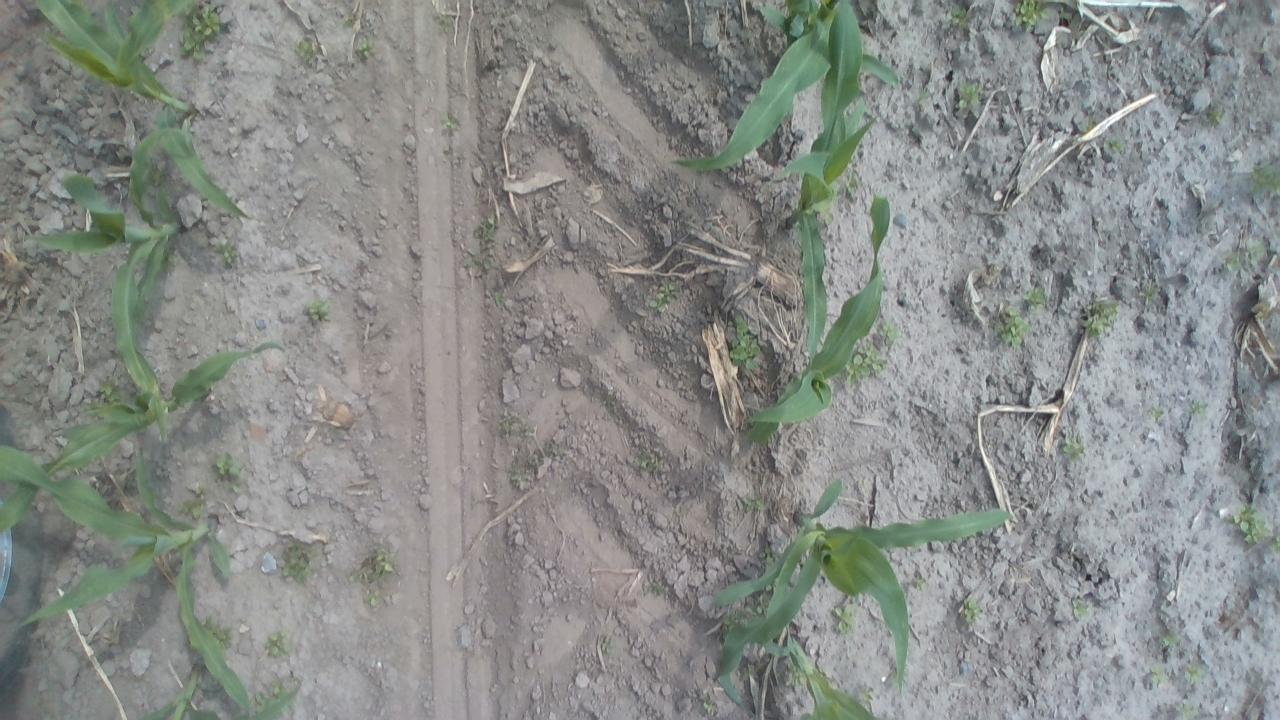Maize: (0, 435, 256, 713), (716, 478, 1016, 696), (0, 333, 294, 540), (23, 115, 178, 440), (30, 0, 254, 222), (740, 192, 898, 450), (671, 12, 900, 172), (773, 1, 870, 365), (730, 624, 877, 720), (120, 659, 290, 720), (753, 0, 828, 37)
Weeds: (352, 540, 397, 611), (175, 3, 226, 62), (1226, 501, 1280, 554), (458, 212, 502, 273), (840, 338, 890, 388), (1077, 291, 1124, 343), (729, 314, 762, 374), (995, 304, 1036, 352), (278, 542, 322, 586), (642, 278, 686, 316), (1223, 234, 1267, 270), (212, 452, 246, 494), (260, 627, 296, 666), (251, 674, 292, 708), (718, 604, 767, 632), (1010, 0, 1052, 31), (1058, 424, 1090, 464), (1248, 158, 1280, 198), (200, 616, 237, 650), (496, 413, 533, 443), (826, 604, 859, 636), (169, 495, 208, 522), (1156, 626, 1192, 655), (289, 34, 324, 63), (952, 80, 983, 112), (301, 296, 336, 324), (780, 657, 811, 687), (877, 316, 908, 346), (531, 442, 568, 466), (943, 6, 976, 30), (213, 239, 240, 268), (96, 379, 125, 406), (958, 596, 981, 630), (636, 576, 669, 599), (509, 460, 533, 490), (1022, 284, 1048, 311), (738, 491, 766, 515), (634, 446, 659, 472), (1069, 597, 1094, 623), (1190, 396, 1215, 421), (1205, 105, 1232, 128), (1140, 280, 1162, 308), (440, 110, 463, 135), (1181, 659, 1204, 684), (598, 636, 620, 662), (356, 36, 377, 62), (1148, 405, 1171, 428), (838, 170, 861, 193), (756, 545, 779, 567), (1100, 138, 1128, 156), (1176, 700, 1201, 720), (490, 282, 508, 308), (858, 686, 878, 709), (1146, 668, 1169, 688), (443, 142, 464, 163), (436, 12, 456, 34), (604, 391, 620, 415), (912, 572, 929, 594), (335, 16, 358, 32), (699, 700, 718, 716), (740, 664, 755, 684)
